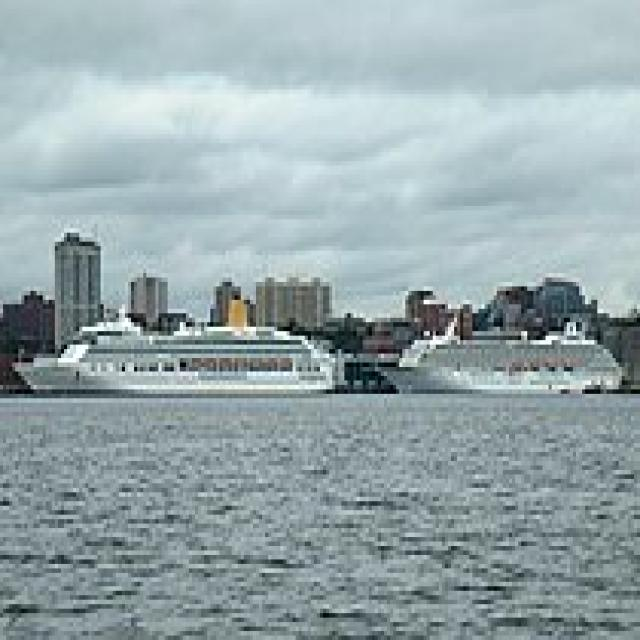Cruise: (6, 286, 341, 394), (368, 295, 622, 394)
